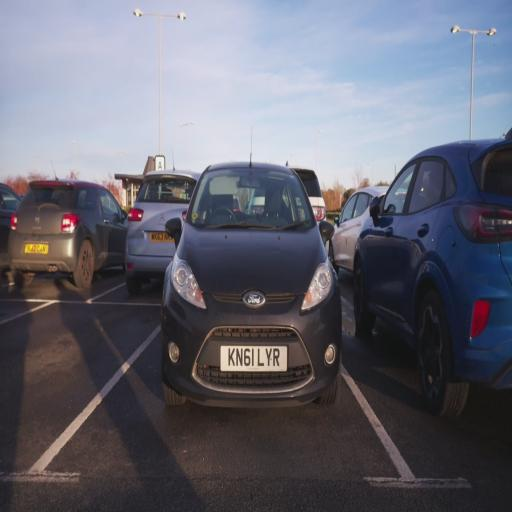numberplates: (221, 346, 287, 371), (150, 232, 174, 242), (25, 244, 48, 254)
